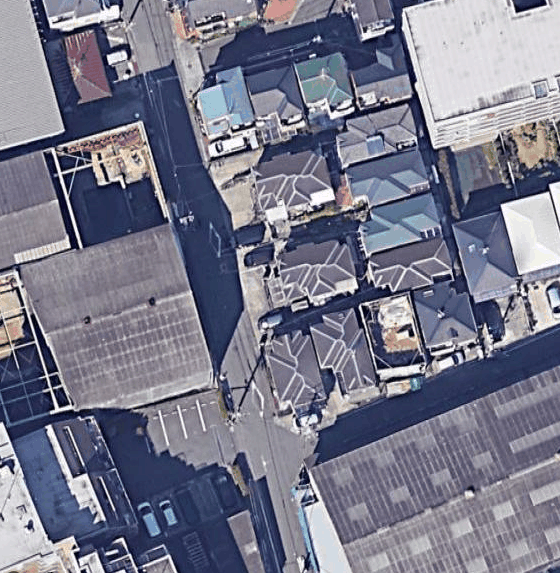facility: (0, 451, 41, 571)
flatroof: (403, 0, 558, 134)
